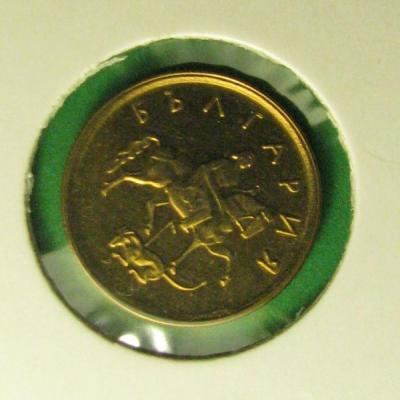numismatics: (29, 38, 352, 357)
